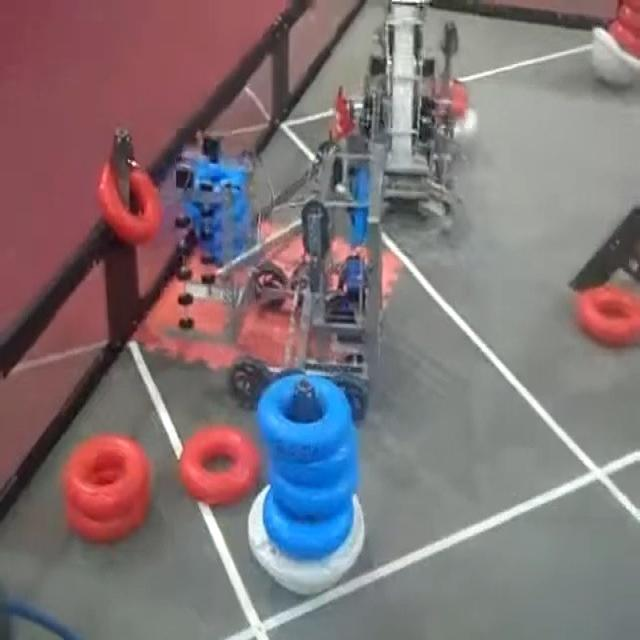Blue-Ring: (258, 375, 352, 461), (264, 488, 352, 558), (271, 458, 358, 518), (271, 440, 356, 486)
Red-Ring: (64, 433, 148, 518), (180, 425, 260, 504), (96, 163, 162, 244), (576, 285, 639, 346), (66, 503, 148, 541), (607, 25, 639, 59), (619, 4, 639, 33)
